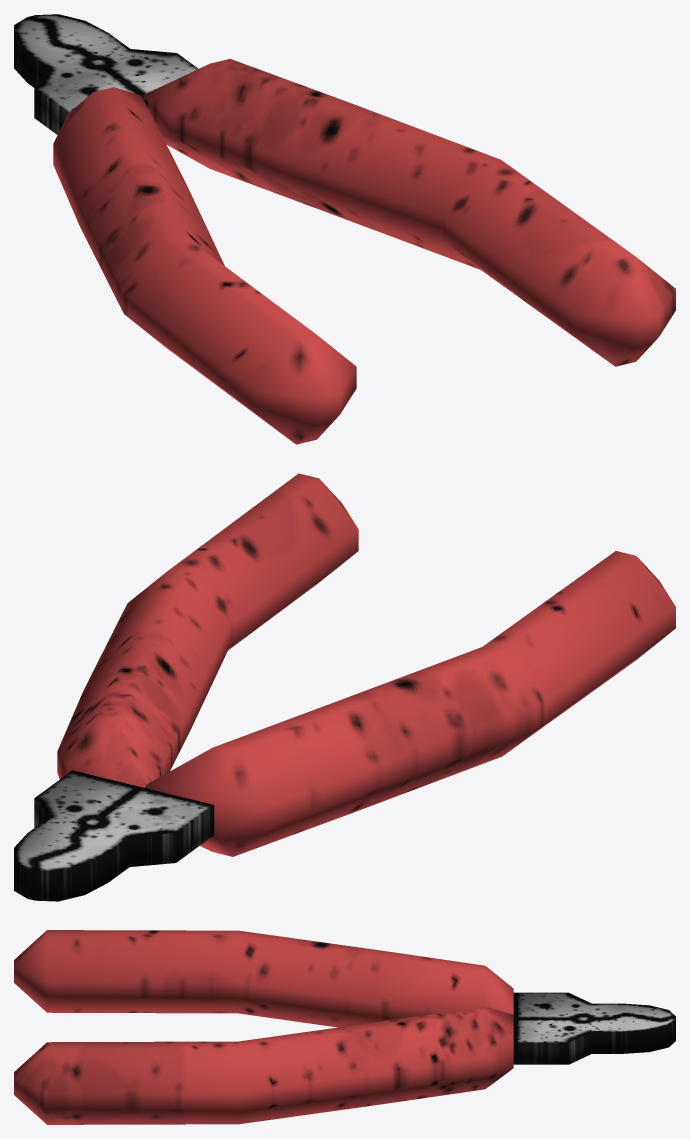
The model's file is pliers.obj.
3 renders of one model, top to bottom at view 1: azimuth 30°, elevation 25°; view 2: azimuth 150°, elevation 25°; view 3: azimuth 270°, elevation 25°, orthographic. The views are drawn at different scales.
Visible parts, largest first — view 1: pliers; view 2: pliers; view 3: pliers.
Part boxes in pixels (box(x1,y1,x2,y2)): pliers: box(14, 14, 675, 444); pliers: box(14, 473, 675, 901); pliers: box(14, 930, 675, 1124).
Bounding box in the file's own units: 0.0633 × 0.0151 × 0.1201.
